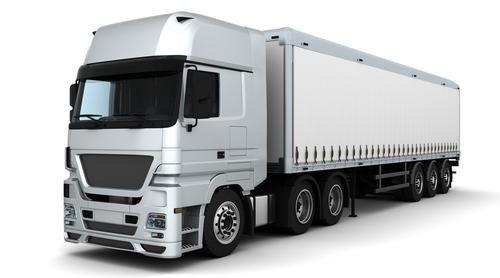truck: (62, 10, 461, 259)
